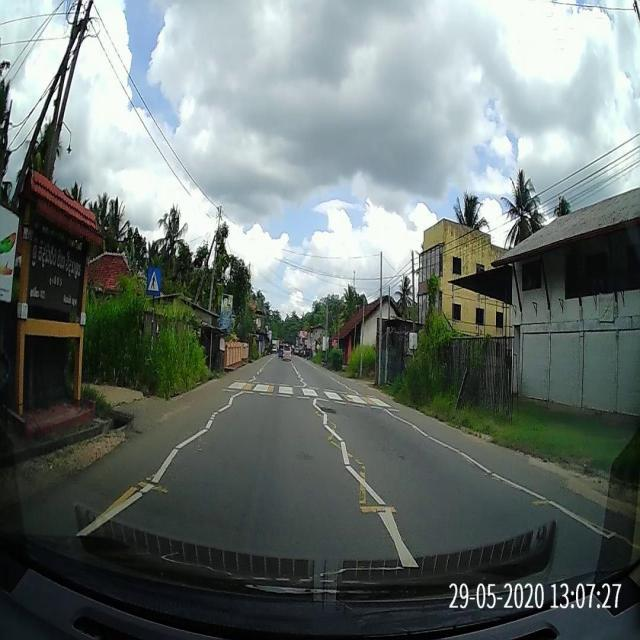Crosswalk: (218, 379, 405, 413)
